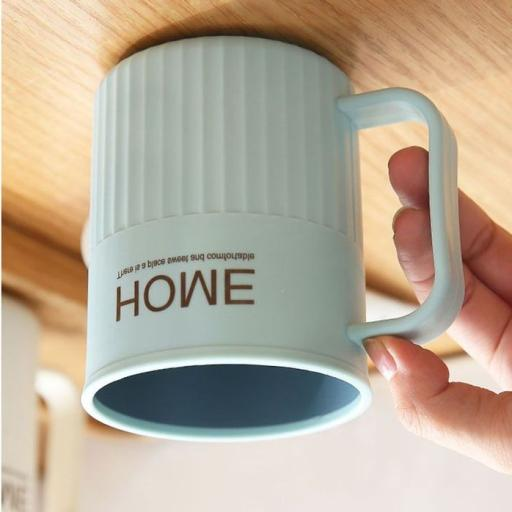cup: (82, 37, 461, 441)
